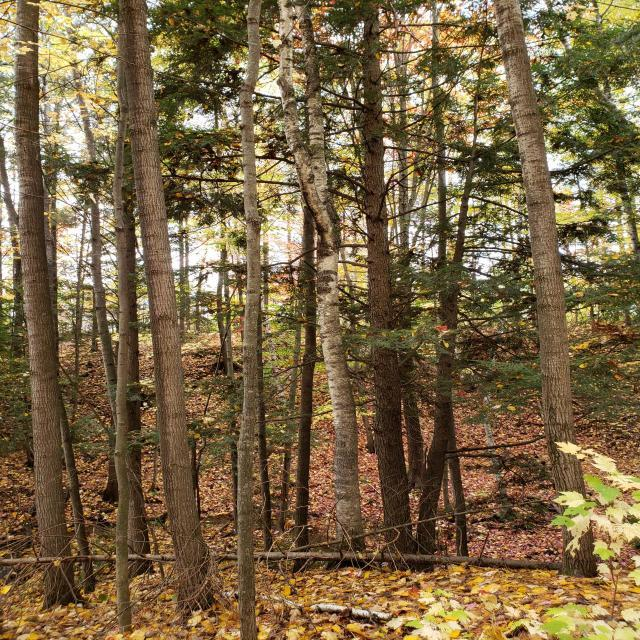fallen_object: (0, 539, 626, 640)
